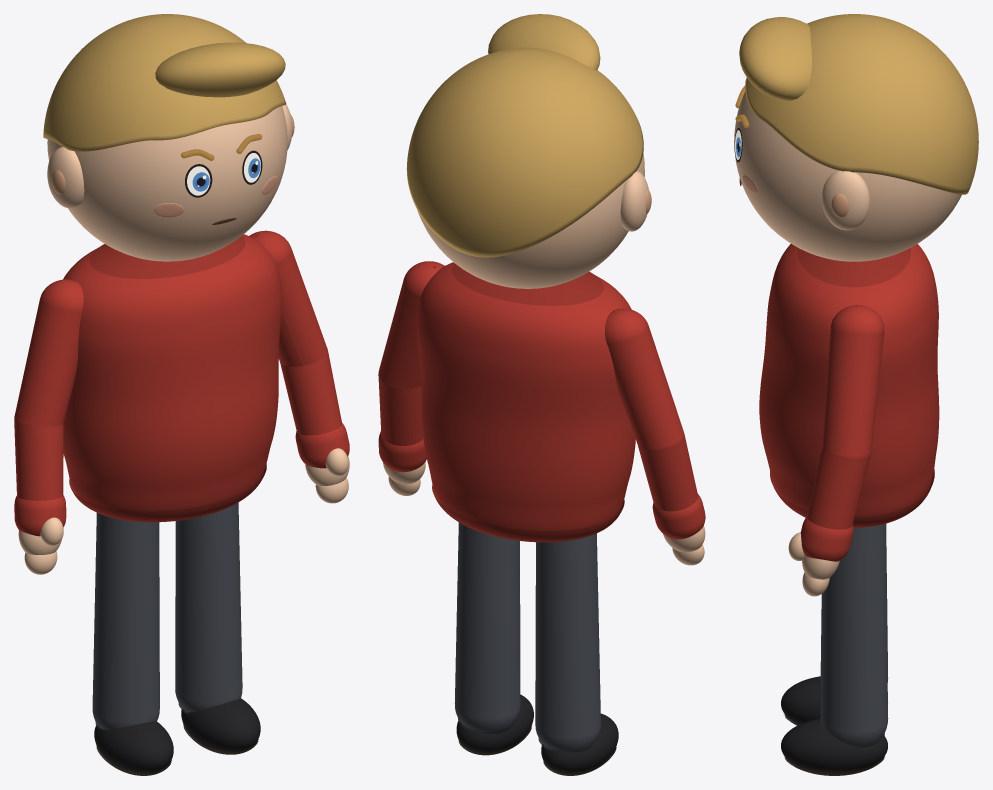
File: volgeling_c.glb
The picture shows the model from 3 angles, left to right: view 1: azimuth 30°, elevation 25°; view 2: azimuth 150°, elevation 25°; view 3: azimuth 270°, elevation 25°; orthographic projection. The views are drawn at different scales.
Visible parts, largest first — view 1: volgeling_c_romp, volgeling_c_hoofd, volgeling_c_haar, volgeling_c_been_R, volgeling_c_been_L, volgeling_c_bovenarm_R, volgeling_c_haar_kuif, volgeling_c_bovenarm_L, volgeling_c_onderarm_R, volgeling_c_onderarm_L, volgeling_c_schoen_R, volgeling_c_schoen_L (+7 smaller); view 2: volgeling_c_romp, volgeling_c_haar, volgeling_c_been_R, volgeling_c_been_L, volgeling_c_hoofd, volgeling_c_bovenarm_R, volgeling_c_bovenarm_L, volgeling_c_haar_kuif, volgeling_c_onderarm_R, volgeling_c_romp_halsboord, volgeling_c_onderarm_L, volgeling_c_schoen_R (+5 smaller); view 3: volgeling_c_romp, volgeling_c_haar, volgeling_c_hoofd, volgeling_c_been_L, volgeling_c_bovenarm_L, volgeling_c_haar_kuif, volgeling_c_onderarm_L, volgeling_c_schoen_L, volgeling_c_romp_halsboord, volgeling_c_oor_L, volgeling_c_manchet_L, volgeling_c_schoen_R (+4 smaller).
Part boxes in pixels (left/top/right/bottom): volgeling_c_romp: left=63, top=234, right=282, bottom=511; volgeling_c_hoofd: left=47, top=106, right=287, bottom=261; volgeling_c_haar: left=43, top=14, right=286, bottom=151; volgeling_c_been_R: left=92, top=513, right=159, bottom=729; volgeling_c_been_L: left=175, top=502, right=242, bottom=712; volgeling_c_bovenarm_R: left=15, top=279, right=83, bottom=427; volgeling_c_haar_kuif: left=155, top=42, right=285, bottom=97; volgeling_c_bovenarm_L: left=249, top=230, right=327, bottom=366; volgeling_c_onderarm_R: left=14, top=419, right=63, bottom=500; volgeling_c_onderarm_L: left=280, top=353, right=341, bottom=435; volgeling_c_schoen_R: left=94, top=721, right=173, bottom=773; volgeling_c_schoen_L: left=181, top=698, right=260, bottom=751; volgeling_c_romp: left=416, top=262, right=635, bottom=530; volgeling_c_haar: left=406, top=47, right=643, bottom=257; volgeling_c_been_R: left=535, top=533, right=600, bottom=750; volgeling_c_been_L: left=454, top=522, right=520, bottom=731; volgeling_c_hoofd: left=417, top=153, right=644, bottom=288; volgeling_c_bovenarm_R: left=605, top=308, right=683, bottom=451; volgeling_c_bovenarm_L: left=378, top=261, right=444, bottom=389; volgeling_c_haar_kuif: left=488, top=14, right=600, bottom=70; volgeling_c_onderarm_R: left=637, top=435, right=697, bottom=511; volgeling_c_romp_halsboord: left=452, top=263, right=603, bottom=305; volgeling_c_onderarm_L: left=378, top=374, right=423, bottom=445; volgeling_c_schoen_R: left=541, top=713, right=618, bottom=773; volgeling_c_romp: left=759, top=244, right=939, bottom=517; volgeling_c_haar: left=745, top=14, right=978, bottom=194; volgeling_c_hoofd: left=734, top=91, right=961, bottom=261; volgeling_c_been_L: left=820, top=524, right=888, bottom=745; volgeling_c_bovenarm_L: left=822, top=305, right=884, bottom=460; volgeling_c_haar_kuif: left=739, top=17, right=811, bottom=100; volgeling_c_onderarm_L: left=807, top=448, right=871, bottom=529; volgeling_c_schoen_L: left=781, top=719, right=887, bottom=771; volgeling_c_romp_halsboord: left=797, top=248, right=910, bottom=287; volgeling_c_oor_L: left=821, top=170, right=870, bottom=230; volgeling_c_manchet_L: left=800, top=516, right=853, bottom=561; volgeling_c_schoen_R: left=781, top=676, right=820, bottom=724.
Size of the model in its own units: 0.8707 by 1.85 by 0.5617.
